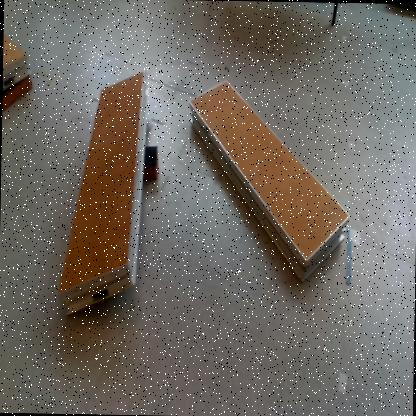Stairs: (190, 78, 351, 283), (58, 70, 150, 321), (3, 33, 32, 95)
